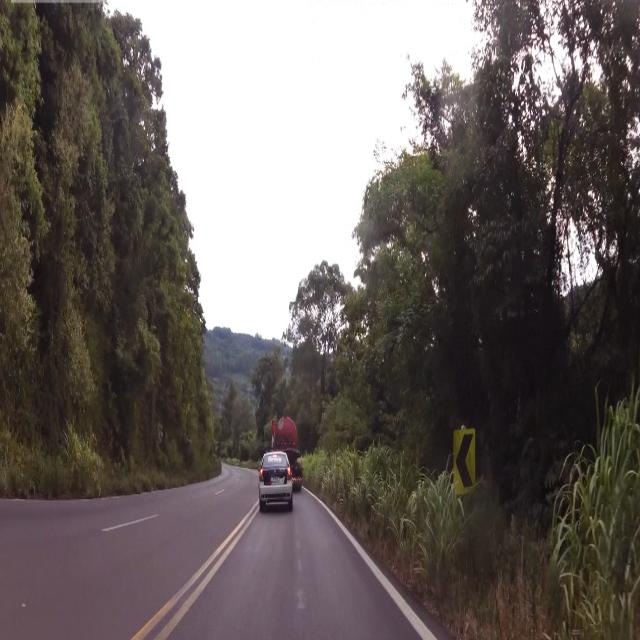Del: (451, 428, 478, 498)
